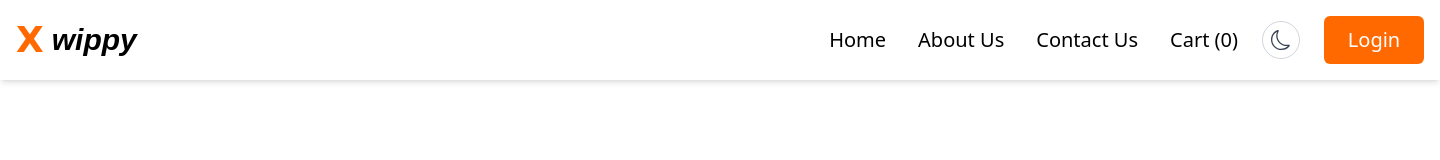
Header › Should toggle the login/logout button when clicked
Click the login button
Click the button "Login" at (1374, 40), box [1324,16,1424,64]
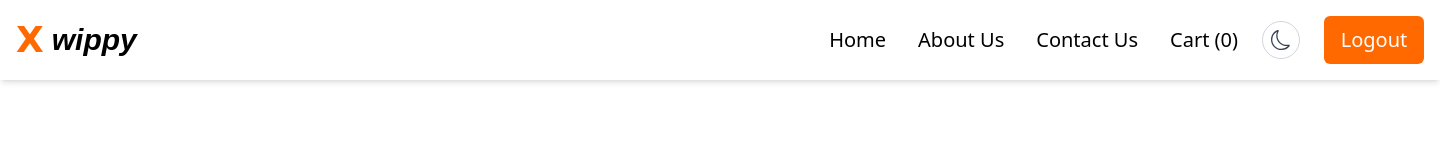
expect the button "Logout" is shown: met
Click the logout button
Click the button "Logout" at (1374, 40), box [1324,16,1424,64]
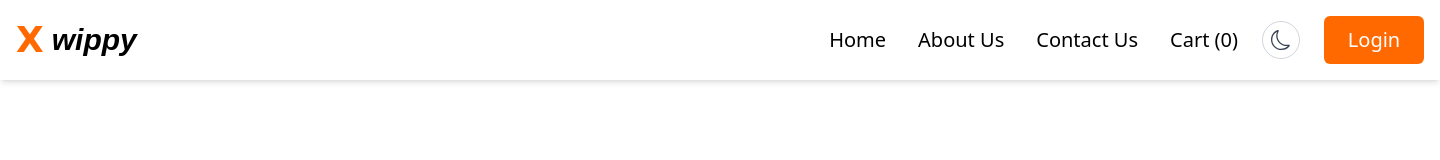
expect the button "Login" is shown: met, box [1324,16,1424,64]
